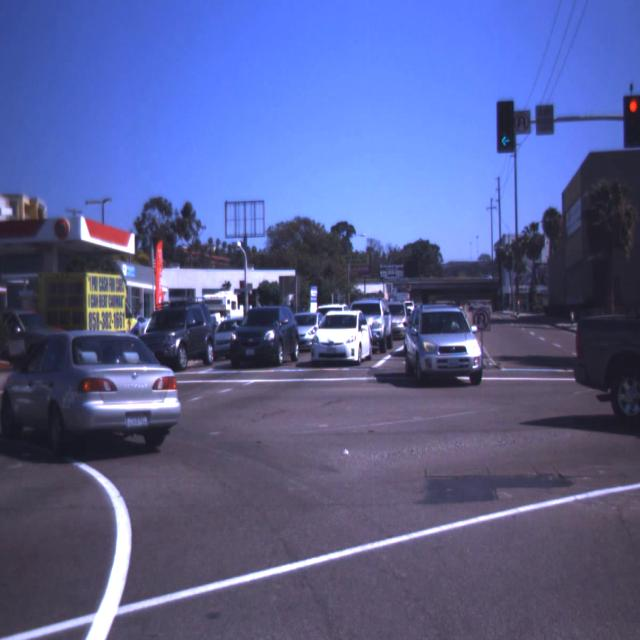kirmizi: (623, 95, 640, 147)
yesil: (497, 101, 514, 153)
